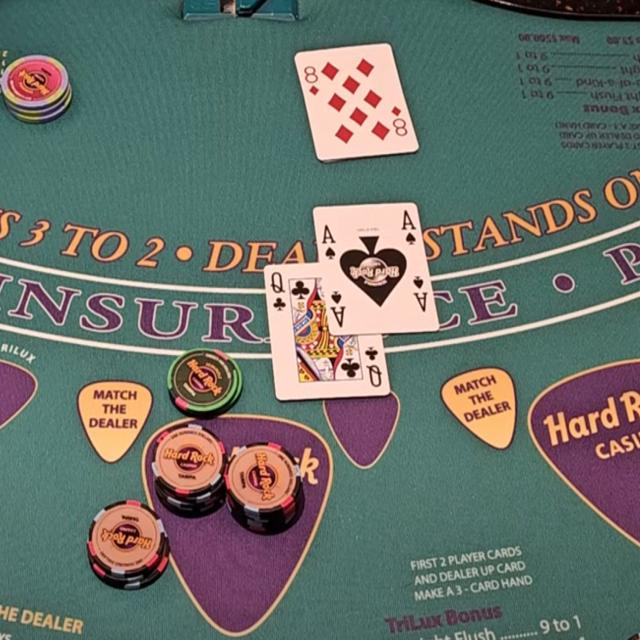8: (302, 61, 320, 85)
A: (317, 220, 340, 246)
Q: (268, 269, 286, 296)
